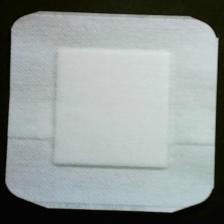Dressing: (6, 9, 221, 215)
